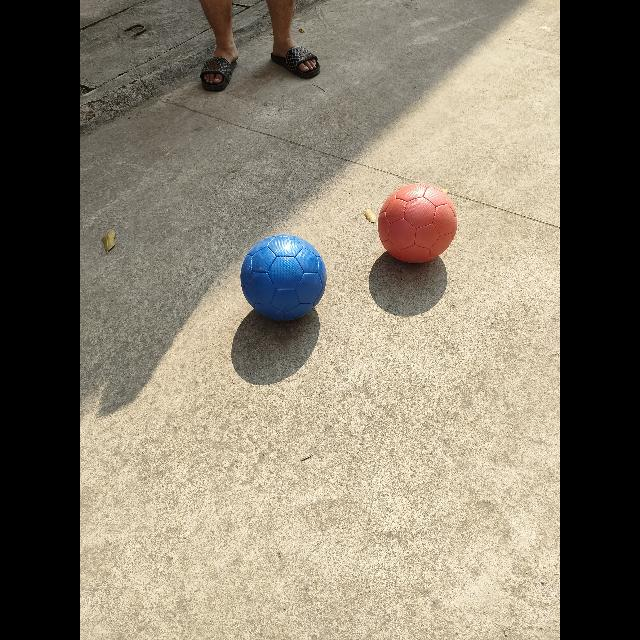B: (241, 235, 326, 321)
R: (378, 184, 458, 262)
